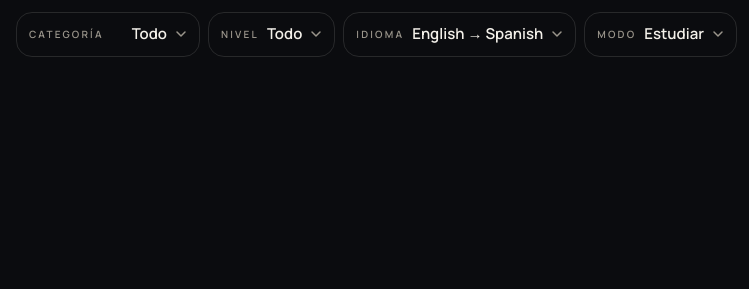
StudyMenus › offers French to Spanish as an available pair
Click the button "Idioma English → Spanish" at (460, 34), box [343,12,576,56]
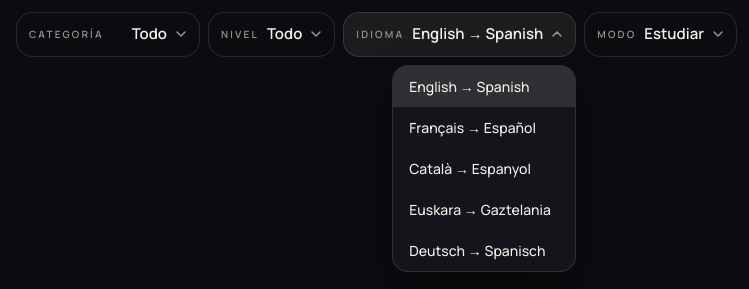
Now the option "Français → Español" is enabled, box [393,106,575,148]
Now the option "English → Spanish" is enabled, box [393,66,575,106]
Now the option "Català → Espanyol" is enabled, box [393,148,575,188]
